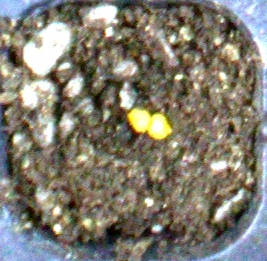chilli seed: (149, 113, 173, 139), (127, 108, 150, 131)
